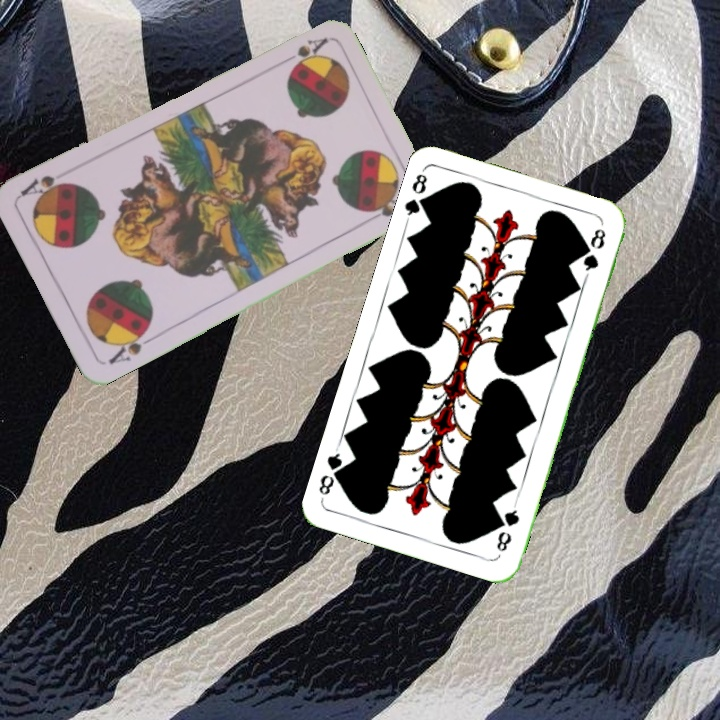G8: (401, 167, 434, 224), (492, 500, 522, 555)
SA: (104, 323, 158, 367), (274, 34, 330, 66)
